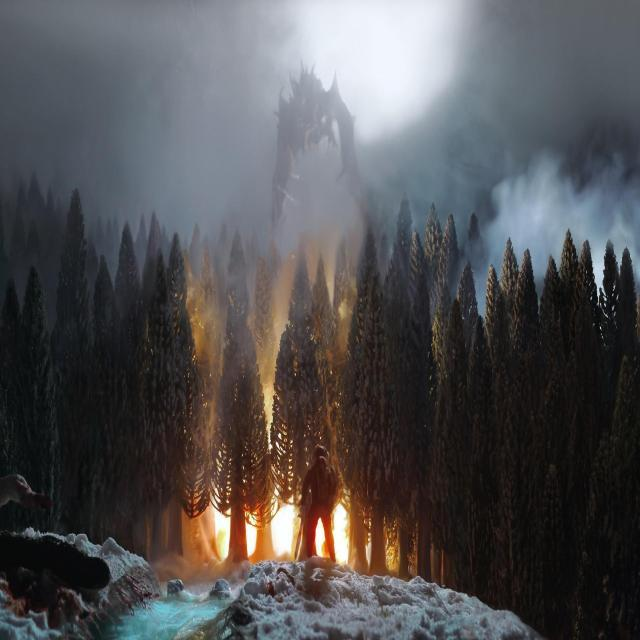Fire: (198, 503, 230, 561), (272, 502, 300, 561), (335, 502, 353, 568), (386, 527, 399, 572)
Smoke: (484, 164, 630, 308)
